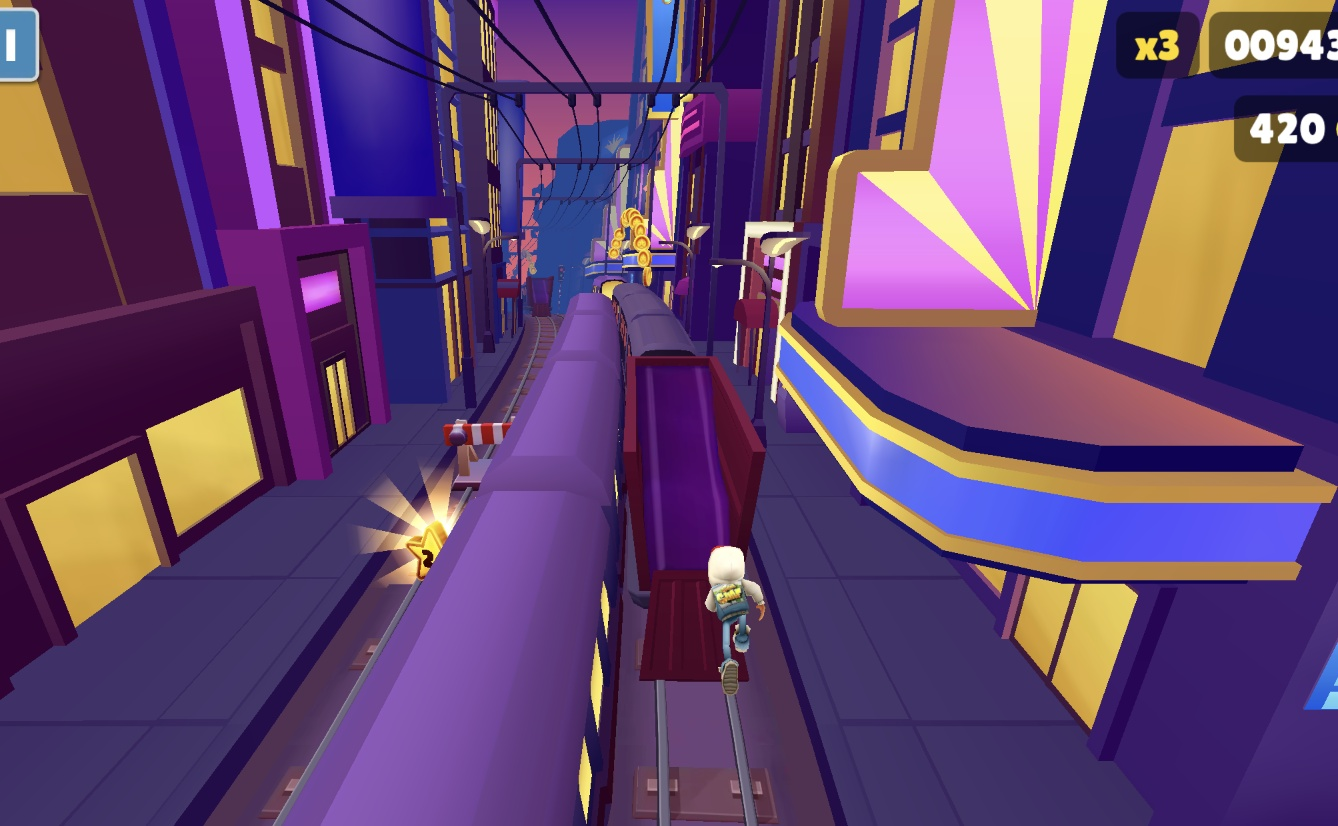ground_barrier: (439, 417, 502, 497)
train: (337, 287, 637, 826), (619, 319, 776, 684)
